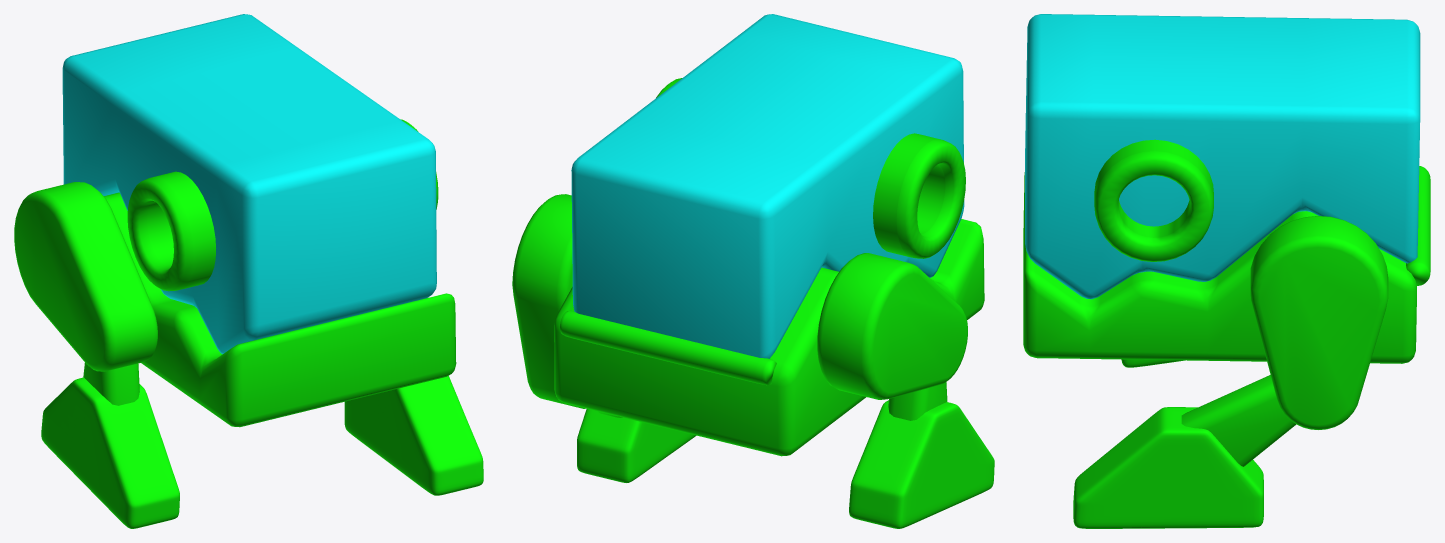
The picture shows the model from 3 angles, left to right: view 1: azimuth 30°, elevation 25°; view 2: azimuth 150°, elevation 25°; view 3: azimuth 270°, elevation 25°; orthographic projection. The views are drawn at different scales.
Parts seen in each view (by area): view 1: Top_Jaw, Lower_Jaw, Thighs_Left, Feet_Left, Feet_Right, Eyes, Shin_Left; view 2: Top_Jaw, Lower_Jaw, Thighs_Left, Feet_Left, Eyes, Thighs_Right, Hinge, Feet_Right, Shin_Left; view 3: Top_Jaw, Lower_Jaw, Thighs_Right, Feet_Right, Eyes, Shin_Right, Hinge.
Boxes of the visible parts, x1,y1,x2,y2 form: Top_Jaw: (62,14,436,354); Lower_Jaw: (104,192,456,427); Thighs_Left: (14,182,157,371); Feet_Left: (41,377,179,528); Feet_Right: (344,376,483,495); Eyes: (127,119,438,291); Shin_Left: (83,363,139,405); Top_Jaw: (571,14,964,358); Lower_Jaw: (554,219,984,456); Thighs_Left: (817,253,967,399); Feet_Left: (849,400,994,528); Eyes: (656,78,965,258); Thighs_Right: (512,194,585,408); Hinge: (560,310,776,385); Feet_Right: (577,409,696,482); Shin_Left: (888,382,947,420); Top_Jaw: (1025,14,1420,299); Lower_Jaw: (1023,172,1416,363); Thighs_Right: (1250,216,1388,429); Feet_Right: (1073,407,1263,528); Eyes: (1094,139,1213,261); Shin_Right: (1181,375,1295,466); Hinge: (1406,166,1430,285).
Size of the model in its own units: 2.03 by 2.19 by 2.07.
